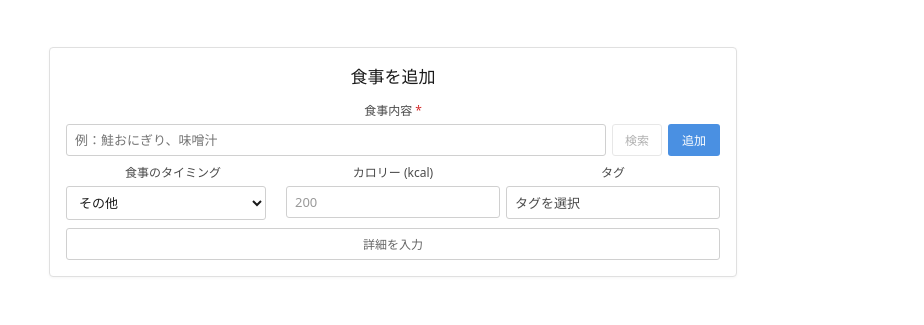
Test: MealForm › 詳細入力を開閉できる
The image size is (924, 325).
Expected: the field labelled "グラム数 (g)" is not shown
# 詳細を入力ボタンをクリック
Click the button "詳細を入力". click: (393, 244)
box: [66,228,720,260]
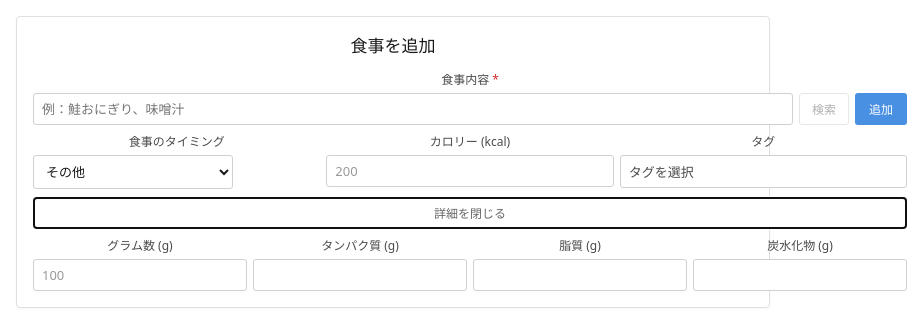
Result: the number field labelled "グラム数 (g)" is shown at [33,259,247,291]
Result: the number field labelled "タンパク質 (g)" is shown at [253,259,467,291]
Result: the number field labelled "脂質 (g)" is shown at [473,259,687,291]
# もう一度クリックすると閉じる
Click the button "詳細を閉じる". click: (470, 213)
box: [33,197,907,229]
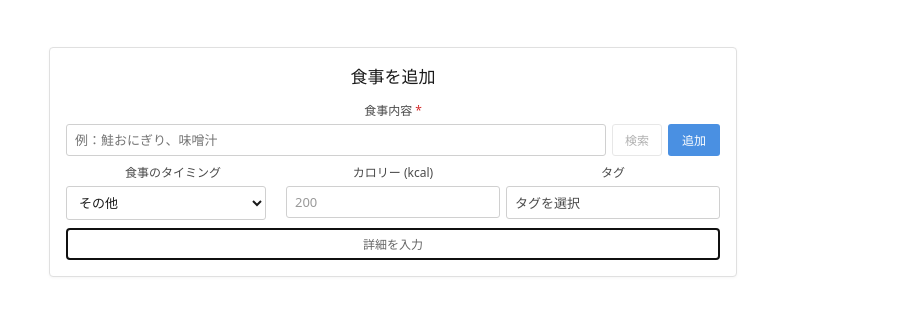
Result: the label labelled "グラム数 (g)" is gone
